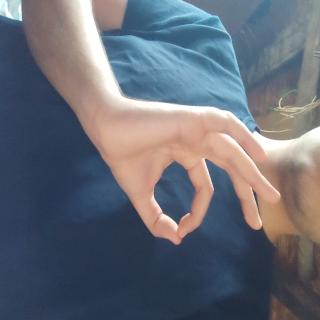Space: (74, 48, 184, 317)
